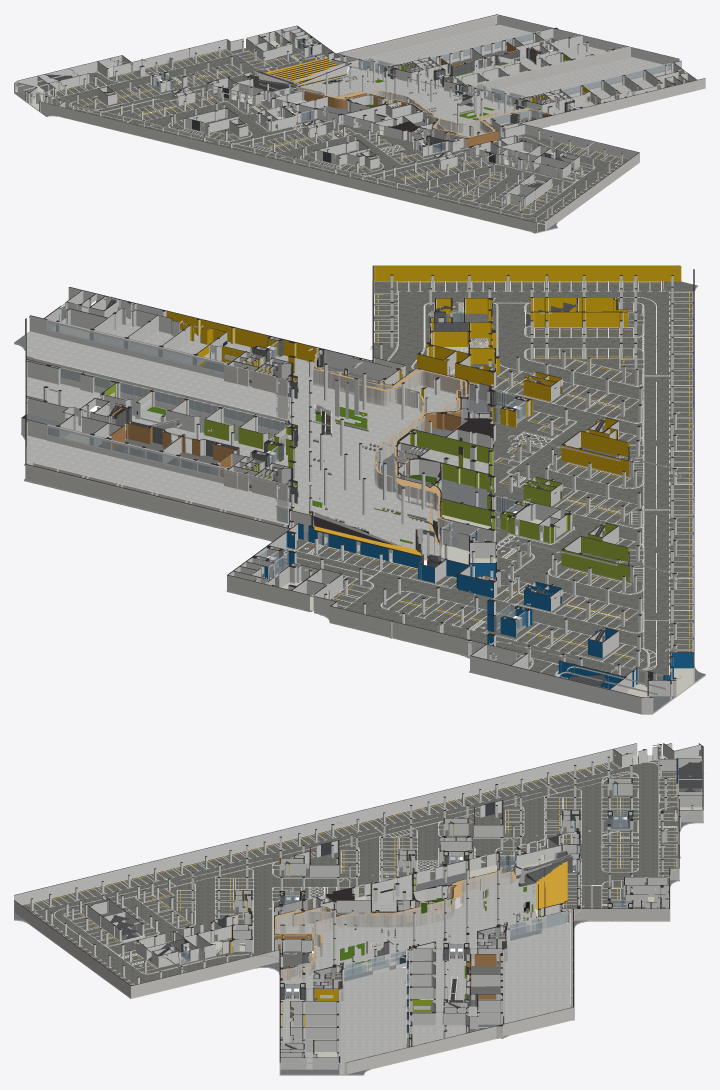
The model's file is floor_B.glb.
3 renders of one model, top to bottom at view 1: azimuth 30°, elevation 25°; view 2: azimuth 150°, elevation 25°; view 3: azimuth 270°, elevation 25°, orthographic. The views are drawn at different scales.
Visible parts, largest first — view 1: wall_paint, floor_parking, floor_granite, wall_ext, wall_top, paint_line, grc_screen, bulkhead, glass, wall_granite, kerb, mashrabiya (+12 smaller); view 2: floor_parking, wall_paint, floor_granite, wall_accent_C, wall_top, paint_line, wall_ext, wall_accent_B, glass, bulkhead, wall_accent_A, grc_screen (+17 smaller); view 3: floor_parking, wall_paint, floor_granite, wall_top, paint_line, wall_ext, mashrabiya, glass, bulkhead, kerb, wall_granite, floor_vinyl (+13 smaller).
Boxes of the visible parts, x1,y1,x2,y2 form: wall_paint: (14,14,696,232); floor_parking: (42,40,628,232); floor_granite: (289,24,670,136); wall_ext: (14,31,705,232); wall_top: (14,14,705,222); paint_line: (41,49,621,224); grc_screen: (339,15,630,98); bulkhead: (17,15,686,179); glass: (154,31,671,158); wall_granite: (161,39,574,157); kerb: (56,50,628,225); mashrabiya: (291,87,552,140); floor_parking: (275,281,693,688); wall_paint: (21,266,693,713); floor_granite: (26,317,488,560); wall_accent_C: (166,266,681,476); wall_top: (21,265,694,697); paint_line: (283,281,693,704); wall_ext: (25,322,694,712); wall_accent_B: (104,383,629,581); glass: (47,311,525,632); bulkhead: (24,293,682,695); wall_accent_A: (262,524,693,688); grc_screen: (26,356,288,527); floor_parking: (22,759,702,985); wall_paint: (14,743,703,1073); floor_granite: (276,858,573,1074); wall_top: (14,743,703,1062); paint_line: (27,759,705,984); wall_ext: (14,744,701,1074); mashrabiya: (273,866,513,981); glass: (171,812,631,1061); bulkhead: (133,743,703,1063); kerb: (26,761,678,973); wall_granite: (169,816,633,1006); floor_vinyl: (14,755,699,1074).
Bounding box in the file's own units: 240 × 9.85 × 219.
Materials: 56 (15 with a texture image).
